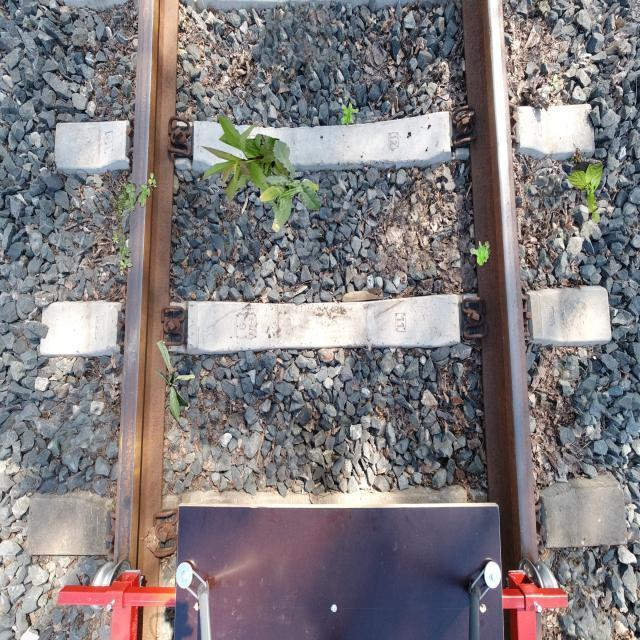Plant: (200, 115, 288, 212), (259, 139, 322, 232), (109, 173, 158, 276), (156, 340, 196, 422), (567, 161, 602, 224), (470, 241, 490, 266), (341, 102, 358, 126)
